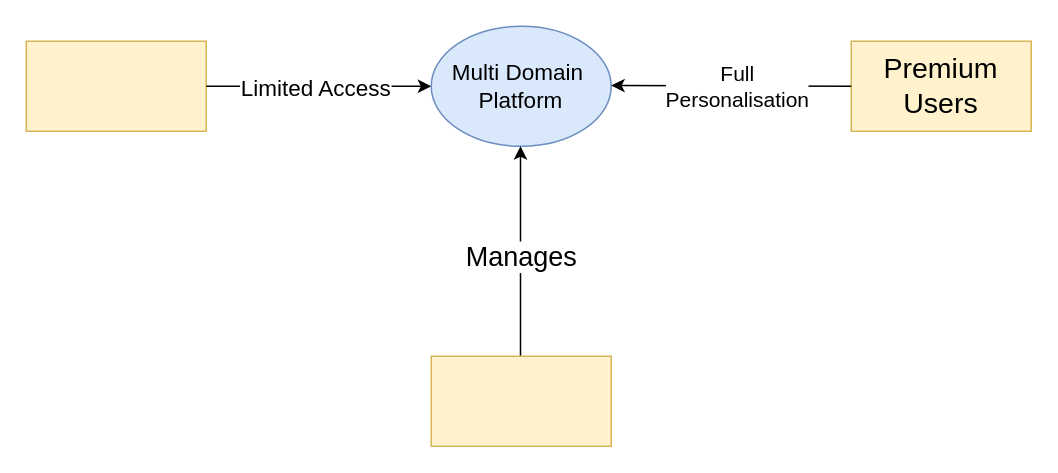
Some shapes in this 1058 by 473 pixel diagram are drawn without their labels. Each missing label, with the centre of its shape:
"Admin" goes at [520,400].
"Guest Users" goes at [115,85].
